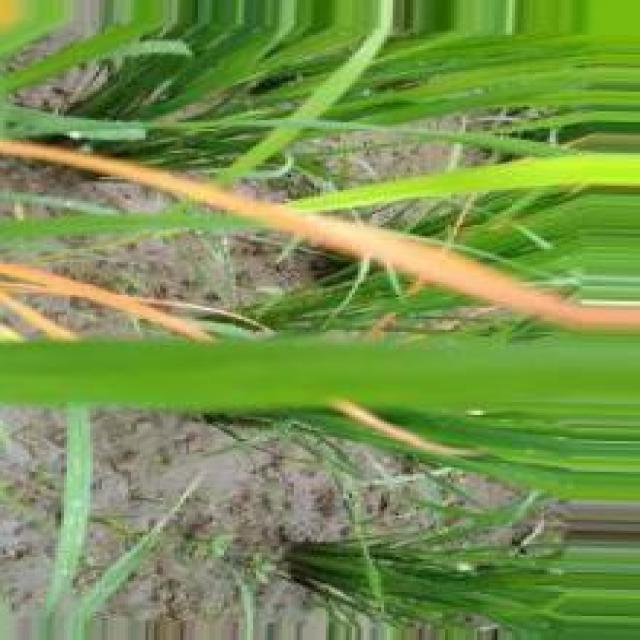Rice Tungro: (0, 142, 638, 329), (0, 264, 208, 342), (330, 399, 469, 454), (0, 292, 75, 341)
